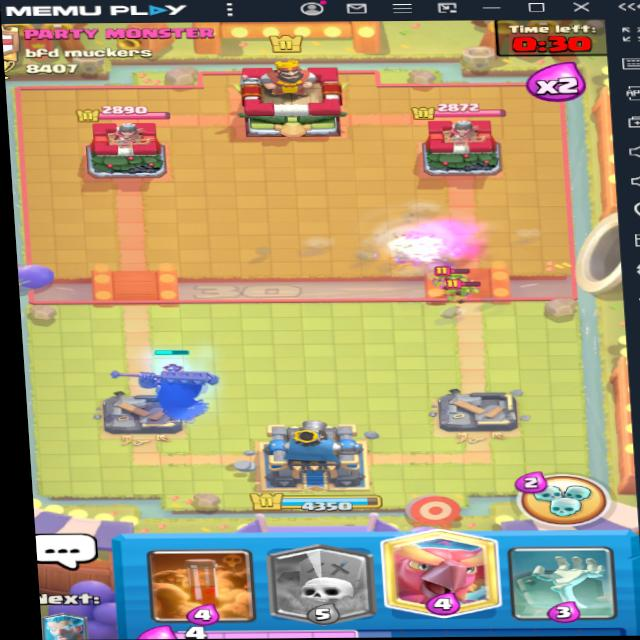goblin: (417, 259, 469, 292), (442, 279, 488, 311)
